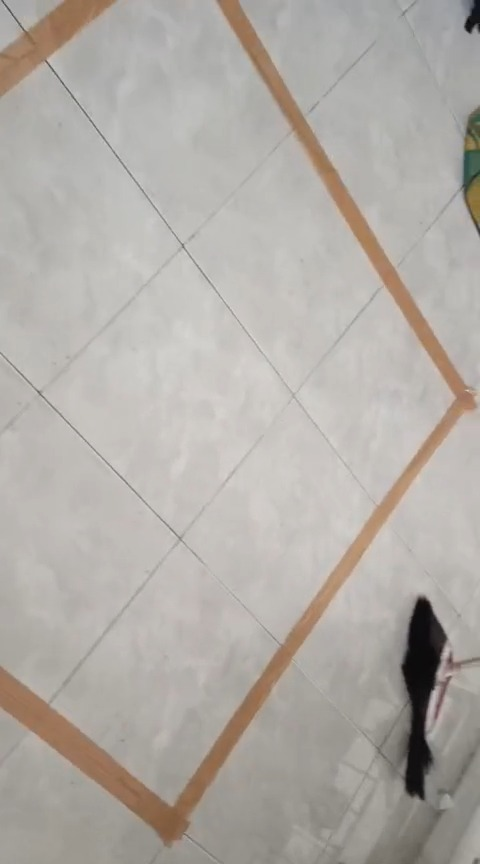floor marking: (2, 0, 475, 845), (0, 0, 114, 97)
